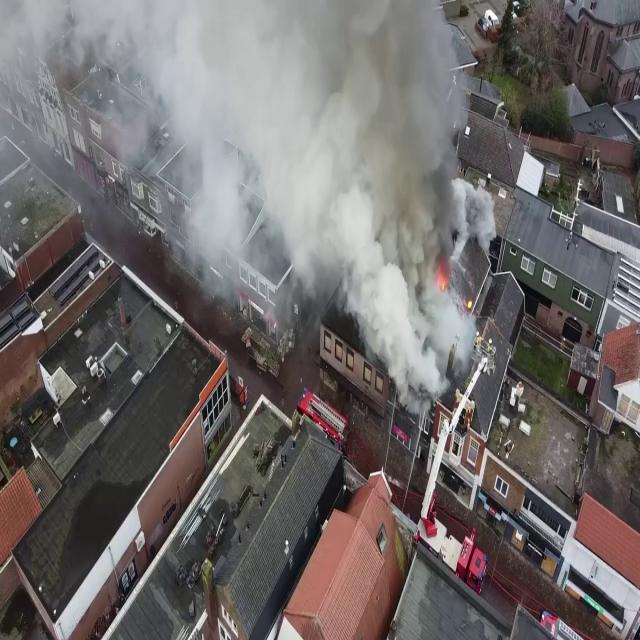Smoke: (134, 0, 478, 408)
